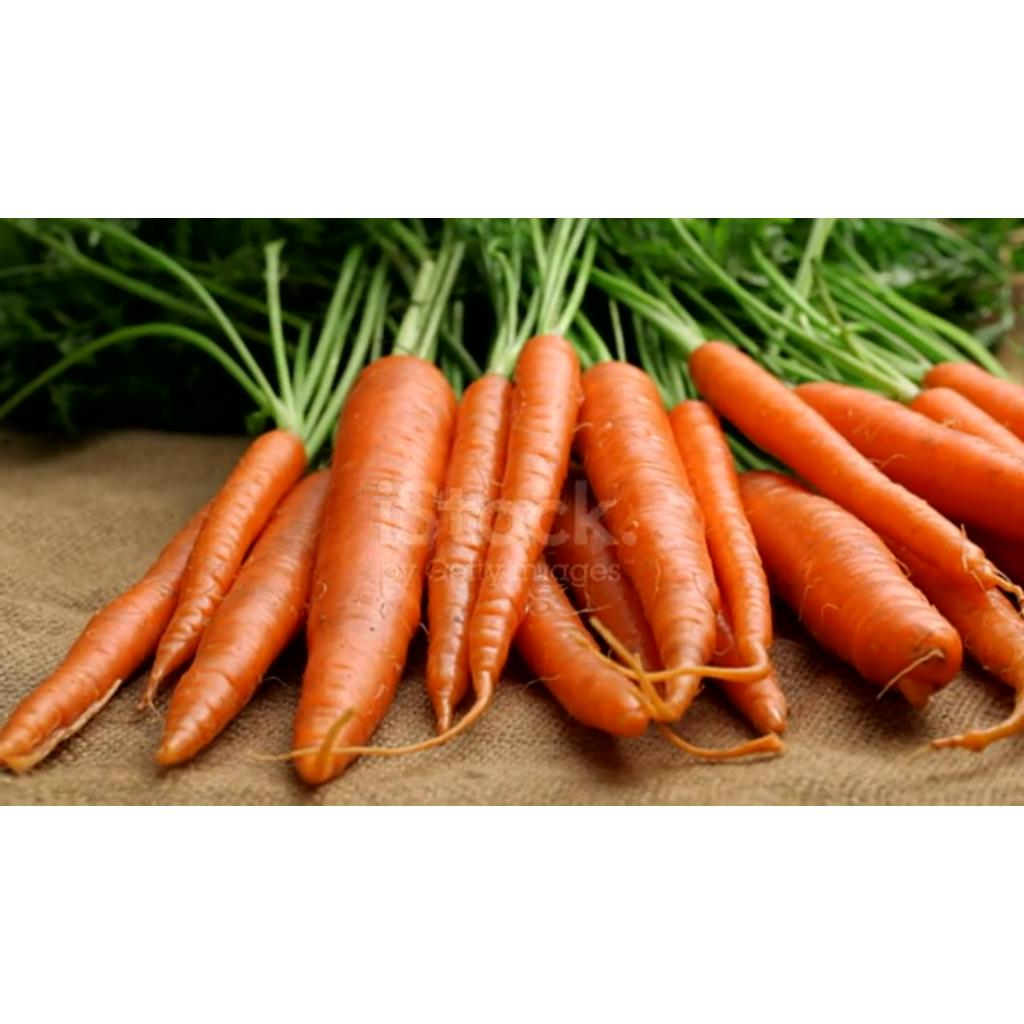carrot: (690, 342, 1014, 590), (292, 356, 456, 785), (0, 502, 211, 773), (742, 474, 962, 707), (156, 472, 329, 765), (138, 430, 306, 709), (576, 364, 718, 668), (468, 334, 582, 707), (794, 382, 1024, 543), (426, 374, 512, 733), (885, 538, 1024, 751), (670, 400, 770, 667), (514, 560, 650, 738), (546, 478, 660, 670), (910, 388, 1024, 459), (924, 362, 1024, 439), (720, 672, 788, 733)
